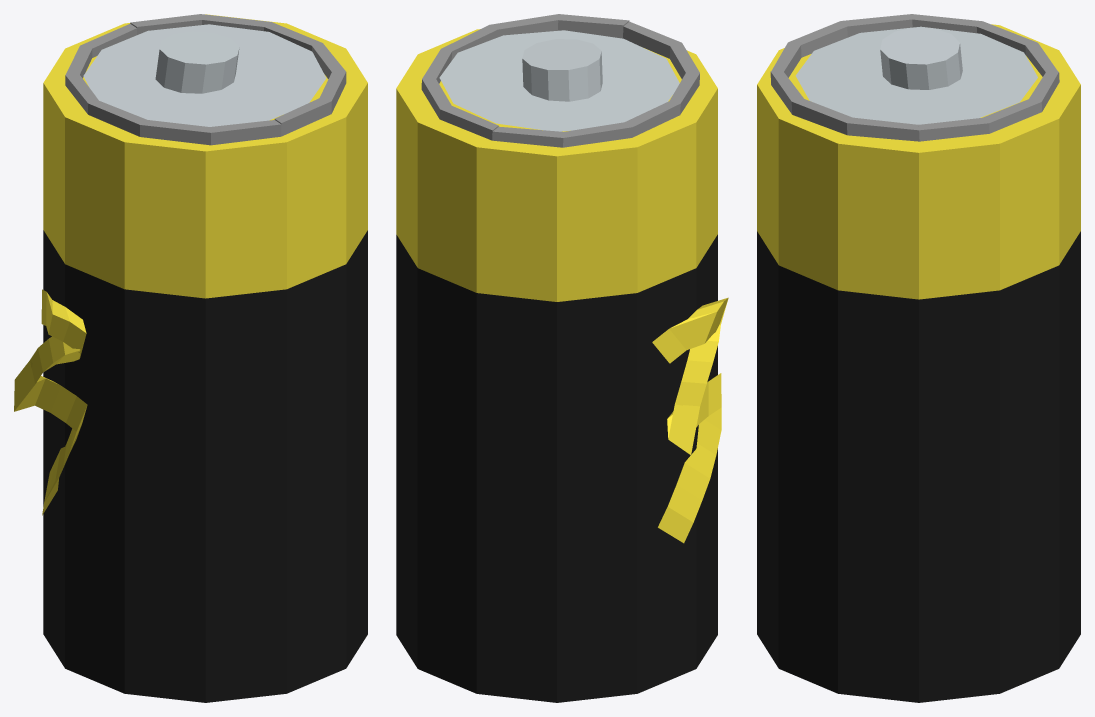
Rendered from battery.fbx.
3 renders of one model, left to right at view 1: azimuth 30°, elevation 25°; view 2: azimuth 150°, elevation 25°; view 3: azimuth 270°, elevation 25°, orthographic.
Parts seen in each view (by area): view 1: group_1551130764; view 2: group_1551130764; view 3: group_1551130764.
Part boxes in pixels (bbox=[...]): group_1551130764: bbox=[14, 14, 367, 702]; group_1551130764: bbox=[396, 14, 728, 702]; group_1551130764: bbox=[757, 14, 1080, 702].
Bounding box in the file's own units: 126 × 233 × 116.
